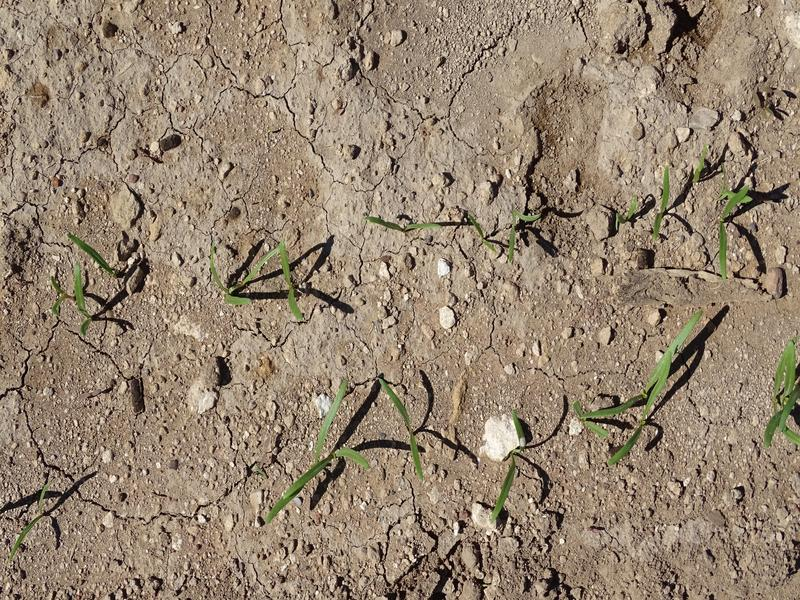Espinaca: (573, 308, 704, 458), (267, 381, 360, 521), (205, 235, 312, 323), (48, 227, 136, 330), (376, 375, 427, 479), (467, 206, 546, 267), (7, 479, 57, 560), (765, 341, 800, 446), (712, 177, 745, 280), (640, 170, 683, 244), (488, 451, 528, 524), (361, 214, 443, 237)
